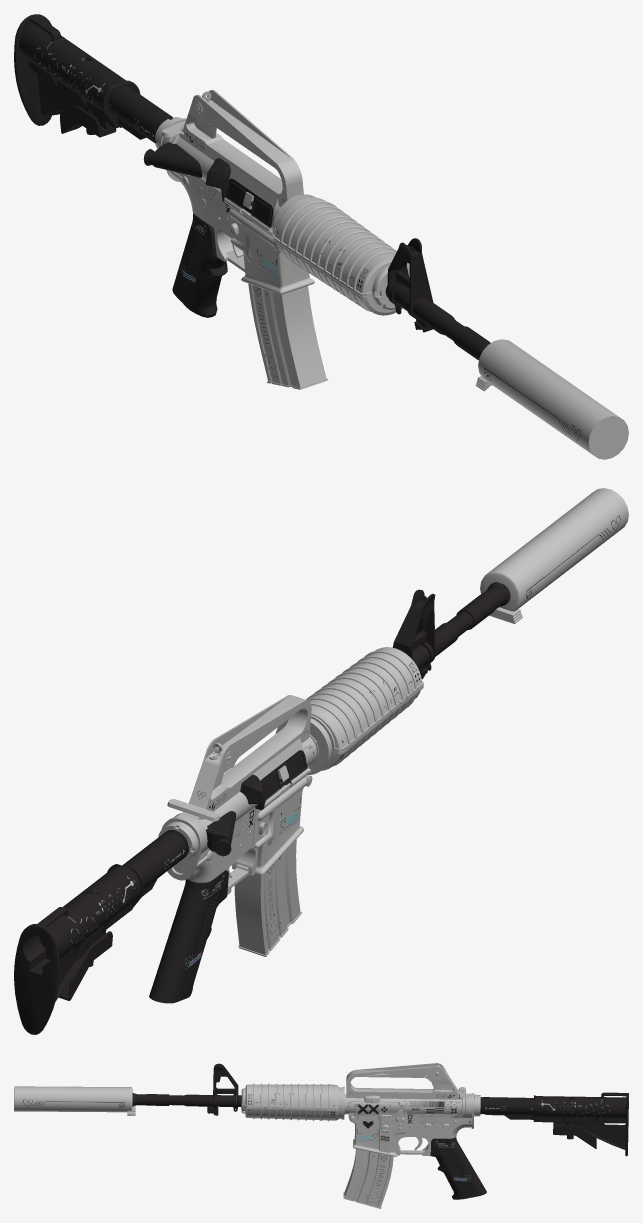
3 views of the same model, one above another, from view 1: azimuth 30°, elevation 25°; view 2: azimuth 150°, elevation 25°; view 3: azimuth 270°, elevation 25° (orthographic). The views are drawn at different scales.
Visible parts, largest first — view 1: m4a1_s; view 2: m4a1_s; view 3: m4a1_s.
Part boxes in pixels (x1,y1,x2,y2): m4a1_s: (14, 14, 628, 459); m4a1_s: (14, 488, 628, 1034); m4a1_s: (14, 1063, 628, 1208).
Size of the model in its own units: 357 by 1165 by 4747.
Materials: 1 (1 with a texture image).
